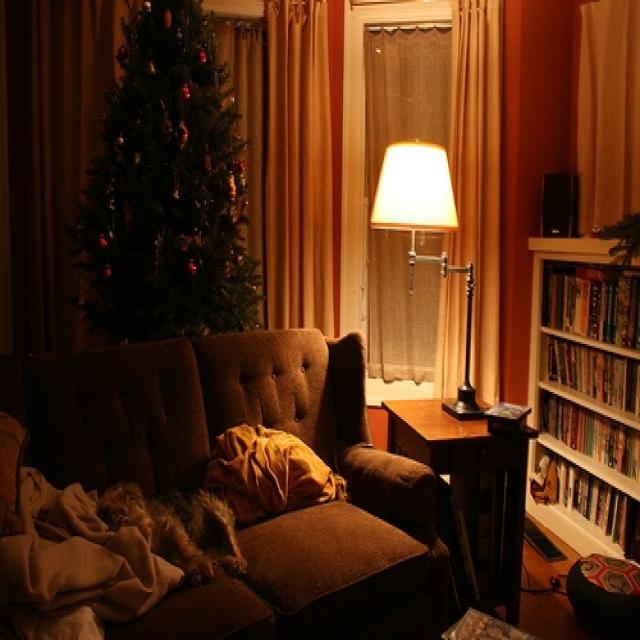Dog: (104, 477, 248, 598)
